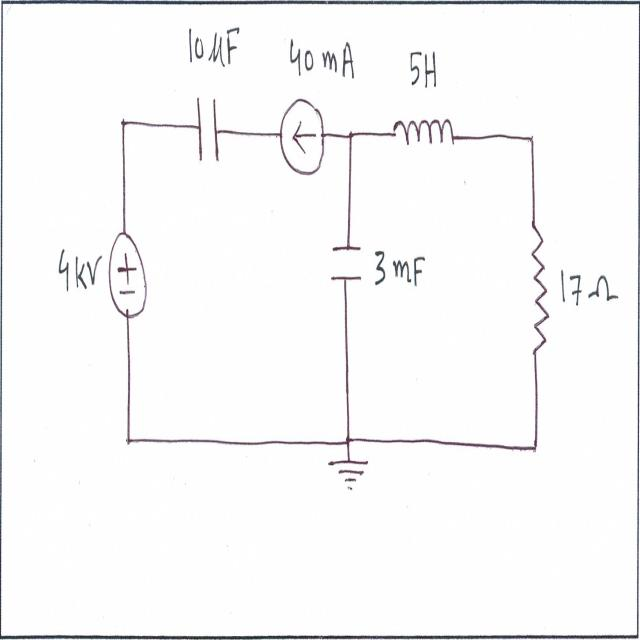capacitor: (325, 238, 364, 290), (195, 91, 221, 167)
current_source: (275, 90, 329, 180)
ground: (326, 452, 374, 498)
inductor: (392, 110, 454, 156)
resistor: (528, 217, 553, 367)
voltage_source: (105, 221, 153, 325)
